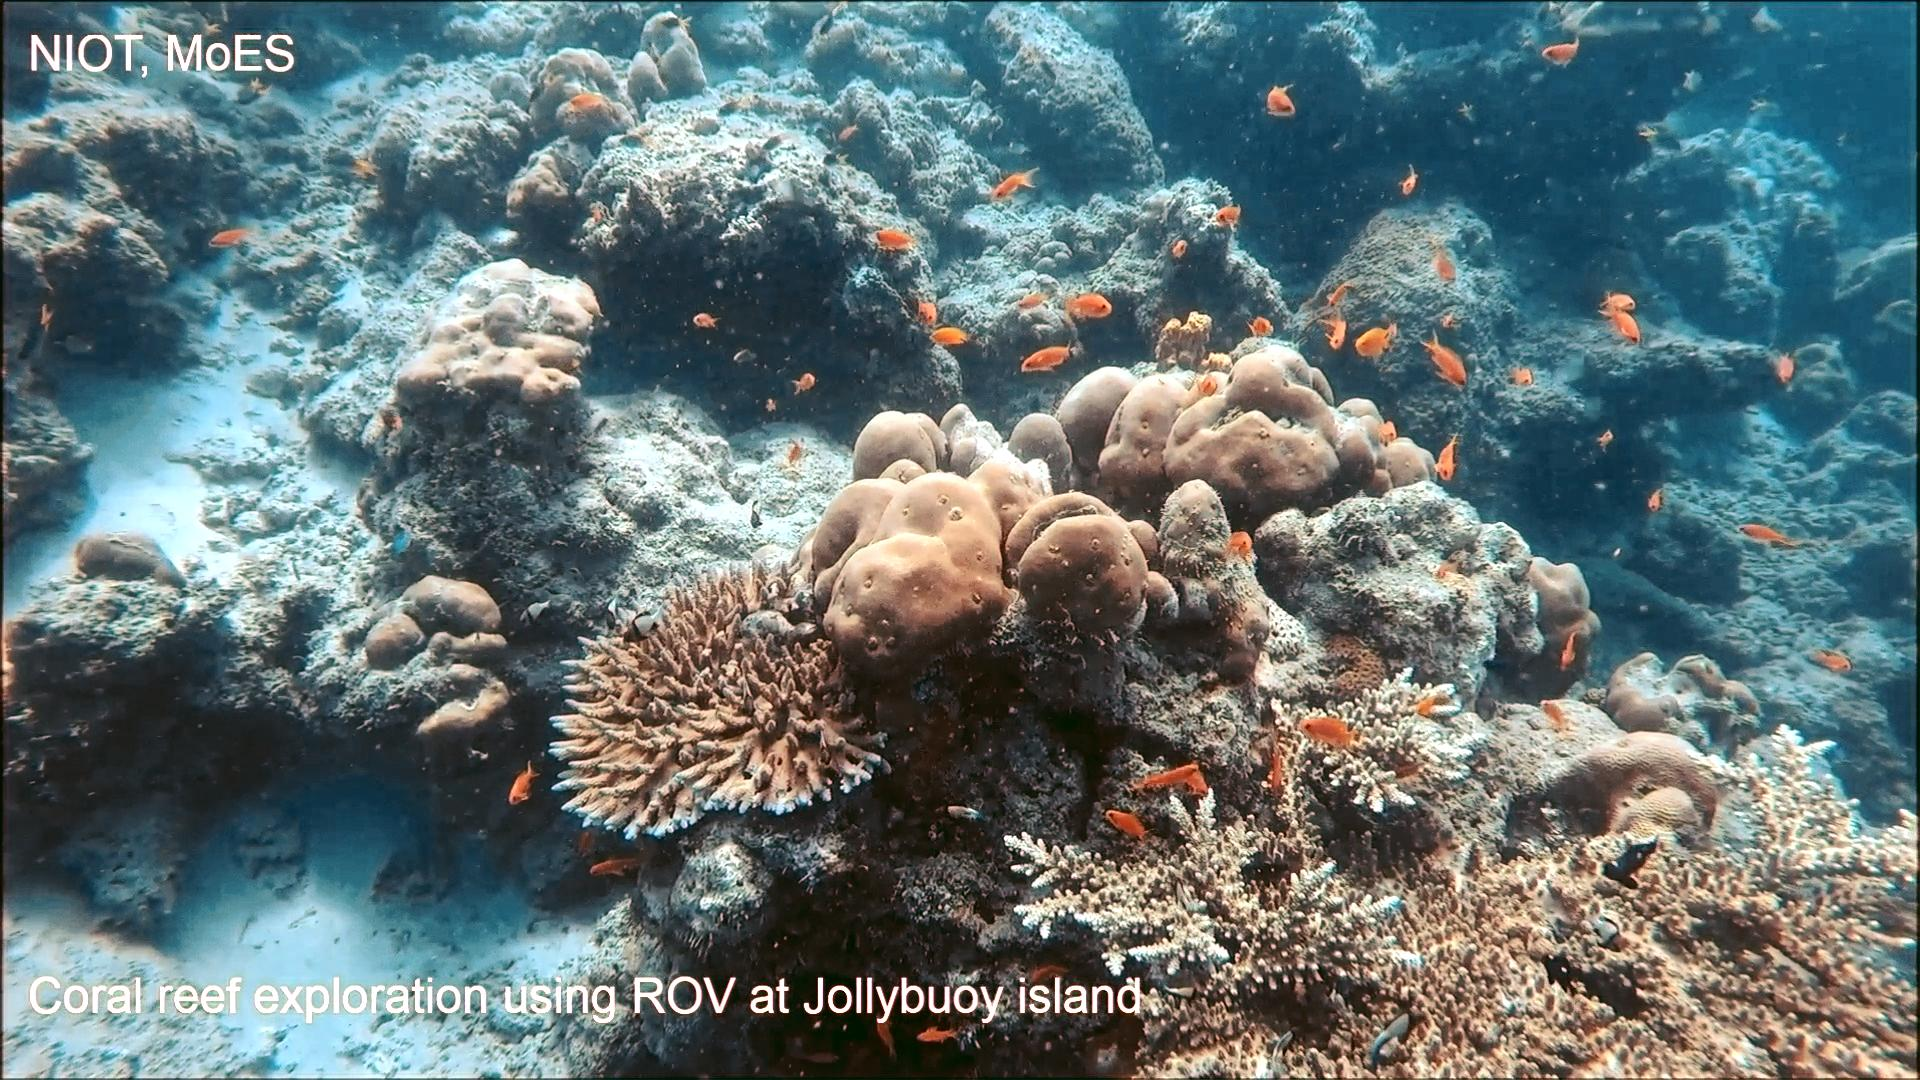Porites-Porites pukoensis: (796, 401, 1154, 692), (1038, 344, 1445, 527)
